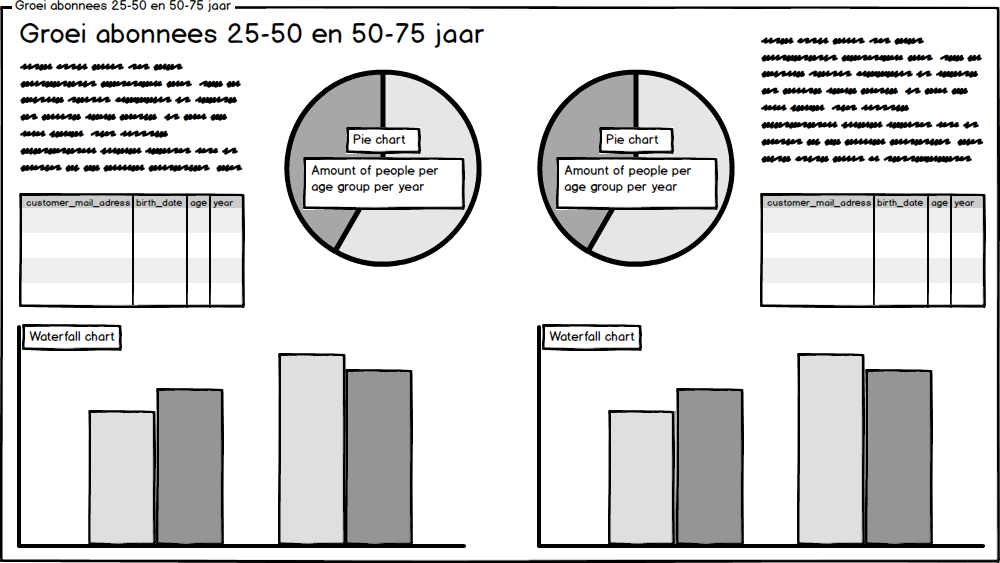

Layout of this report page (visuals, bound fields, positions):
{"tool":"powerbi","page":{"name":"Groei abonnees 25-50 en 50-75 jaar","canvas":[1280,720],"ordinal":4},"visuals":[{"type":"textbox","box":[9.6,0,283,40.2],"z":1},{"type":"pieChart","fields":{"Category":["Customer.subscription_start.Variation.Date Hierarchy.Year","Customer.customer_mail_adress"],"Y":["CountNonNull(Customer.customer_mail_adress)"]},"box":[358.7,0,280,280],"z":2},{"type":"pieChart","fields":{"Category":["Customer.subscription_start.Variation.Date Hierarchy.Year","Customer.customer_mail_adress"],"Y":["CountNonNull(Customer.customer_mail_adress)"]},"box":[643,0,280,280],"z":2},{"type":"tableEx","fields":{"Values":["Customer.customer_mail_adress","Customer.birth_date","Sum(Customer.age)","Customer.subscription_start.Variation.Date Hierarchy.Year"]},"box":[0,208.2,358.7,126],"z":4},{"type":"tableEx","fields":{"Values":["Customer.customer_mail_adress","Customer.birth_date","Sum(Customer.age)","Customer.subscription_start.Variation.Date Hierarchy.Year"]},"box":[927.3,254.6,352.6,73.5],"z":4},{"type":"waterfallChart","fields":{"Category":["Leeftijdscategorie_25_50.subscription_start.Variation.Date Hierarchy.Year"],"Y":["CountNonNull(Leeftijdscategorie_25_50.customer_mail_adress)"]},"box":[0,340.3,574.8,379.7],"z":6},{"type":"waterfallChart","fields":{"Category":["Leeftijdscategorie_50_75.subscription_start.Variation.Date Hierarchy.Year"],"Y":["CountNonNull(Leeftijdscategorie_50_75.customer_mail_adress)"]},"box":[705.2,340.3,574.8,379.7],"z":7},{"type":"textbox","box":[922,50,352.6,142.6],"z":8},{"type":"textbox","box":[5,50,352.6,139.1],"z":9}]}

Visuals, with their boxes in screenshot pixels (x1, y1, x2, y2), scaled from the page's 1280x720 canvas onto the 1000x563 screenshot:
textbox: 8:0:229:31
pieChart - Customer.subscription_start.Variation.Date Hierarchy.Year x Customer.customer_mail_adress: 280:0:499:219
pieChart - Customer.subscription_start.Variation.Date Hierarchy.Year x Customer.customer_mail_adress: 502:0:721:219
tableEx - Customer.customer_mail_adress x Customer.birth_date: 0:163:280:261
tableEx - Customer.customer_mail_adress x Customer.birth_date: 724:199:999:257
waterfallChart - Leeftijdscategorie_25_50.subscription_start.Variation.Date Hierarchy.Year x CountNonNull(Leeftijdscategorie_25_50.customer_mail_adress): 0:266:449:562
waterfallChart - Leeftijdscategorie_50_75.subscription_start.Variation.Date Hierarchy.Year x CountNonNull(Leeftijdscategorie_50_75.customer_mail_adress): 551:266:999:562
textbox: 720:39:996:151
textbox: 4:39:279:148
